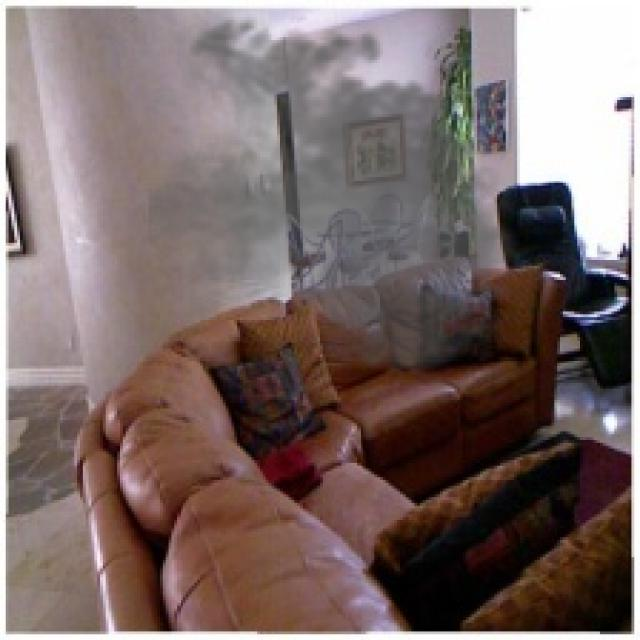smoke: (148, 6, 532, 380)
